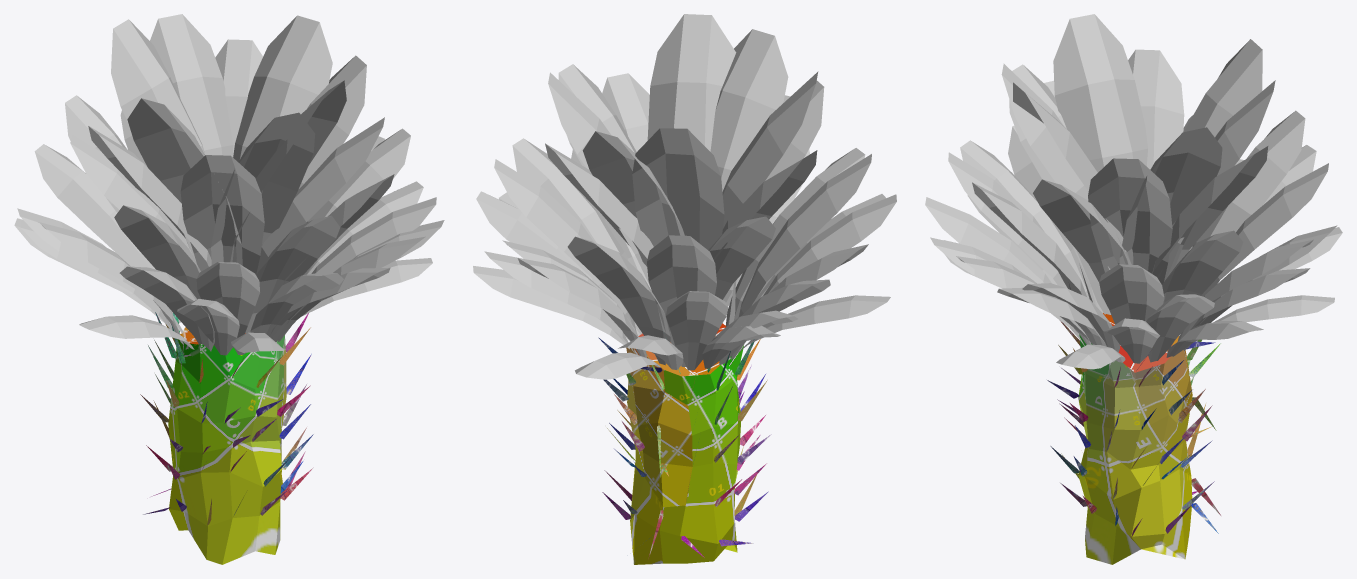
Rendered from ShortPalm.fbx.
3 renders of one model, left to right at view 1: azimuth 30°, elevation 25°; view 2: azimuth 150°, elevation 25°; view 3: azimuth 270°, elevation 25°, orthographic.
Parts seen in each view (by area): view 1: Leaves, Trunk, TrunkSpikes; view 2: Leaves, Trunk, TrunkSpikes; view 3: Leaves, Trunk, TrunkSpikes.
Part boxes in pixels (x1,y1,x2,y2): Leaves: [14, 14, 444, 355]; Trunk: [168, 327, 286, 564]; TrunkSpikes: [140, 312, 313, 525]; Leaves: [473, 14, 896, 379]; Trunk: [626, 323, 744, 564]; TrunkSpikes: [598, 337, 771, 558]; Leaves: [925, 14, 1342, 369]; Trunk: [1078, 313, 1192, 564]; TrunkSpikes: [1047, 321, 1220, 536].
Bounding box in the file's own units: 39.25 × 49.38 × 38.66.
